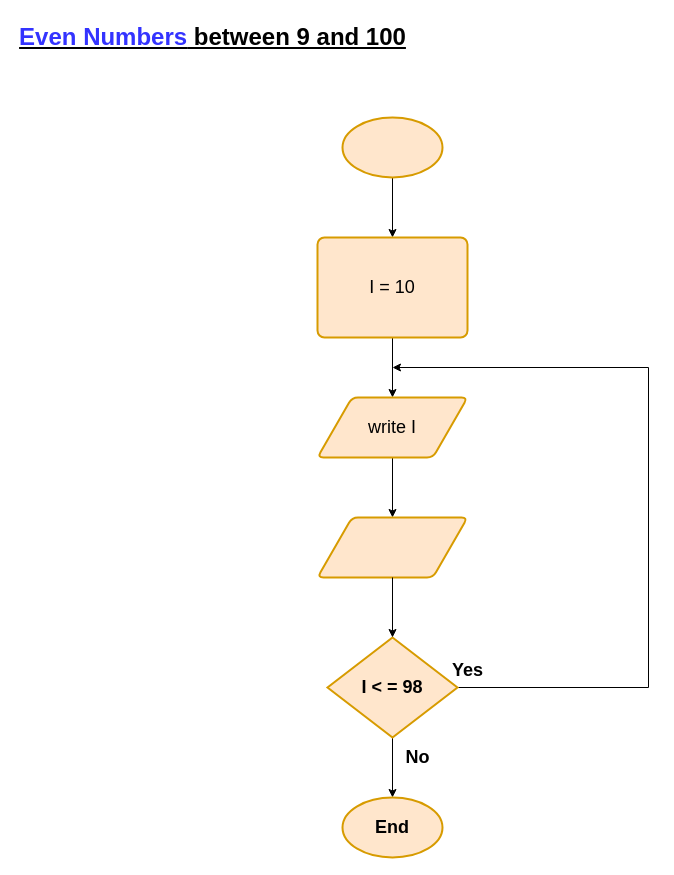
Some shapes in this 674 by 875 pixel diagram are drawn without their labels. Here are the shapes that lost their labels. From the top down, the box of each, then its label:
(341, 116, 443, 178): Start
(316, 516, 468, 578): I = I + 2
